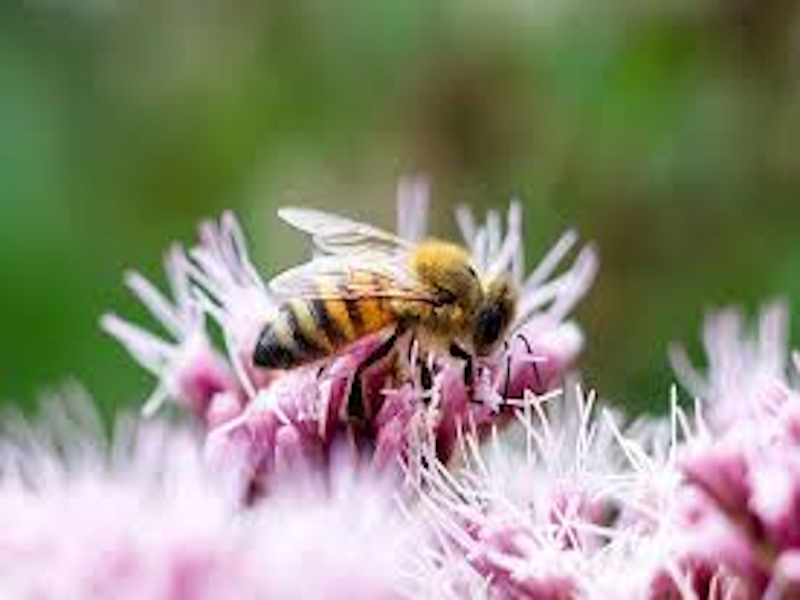abeja: (249, 187, 530, 420)
